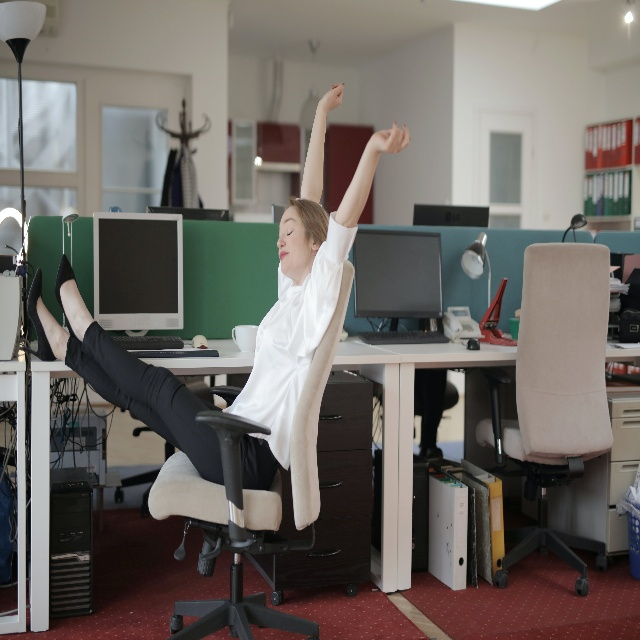Sin_guantes: (372, 120, 411, 154), (317, 82, 345, 113)
